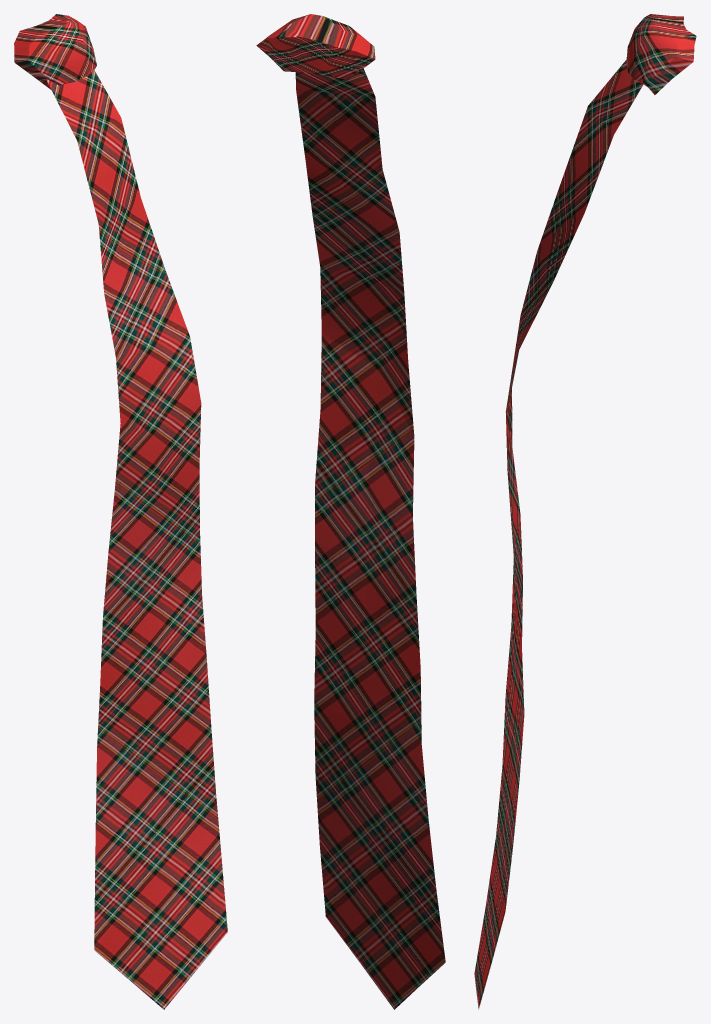
Rendered from Pose-2_Tie-1.fbx.
The picture shows the model from 3 angles, left to right: view 1: azimuth 30°, elevation 25°; view 2: azimuth 150°, elevation 25°; view 3: azimuth 270°, elevation 25°; orthographic projection. The views are drawn at different scales.
Parts seen in each view (by area): view 1: Pose-2_Tie-1; view 2: Pose-2_Tie-1; view 3: Pose-2_Tie-1.
Part boxes in pixels (left/top/right/bottom): Pose-2_Tie-1: left=14, top=14, right=227, bottom=1009; Pose-2_Tie-1: left=256, top=14, right=445, bottom=1009; Pose-2_Tie-1: left=474, top=14, right=696, bottom=1009.
Size of the model in its own units: 7.37 by 51.04 by 10.49.
